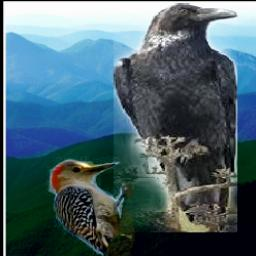Crow: (114, 3, 237, 232)
Woodpecker: (32, 155, 135, 256)
